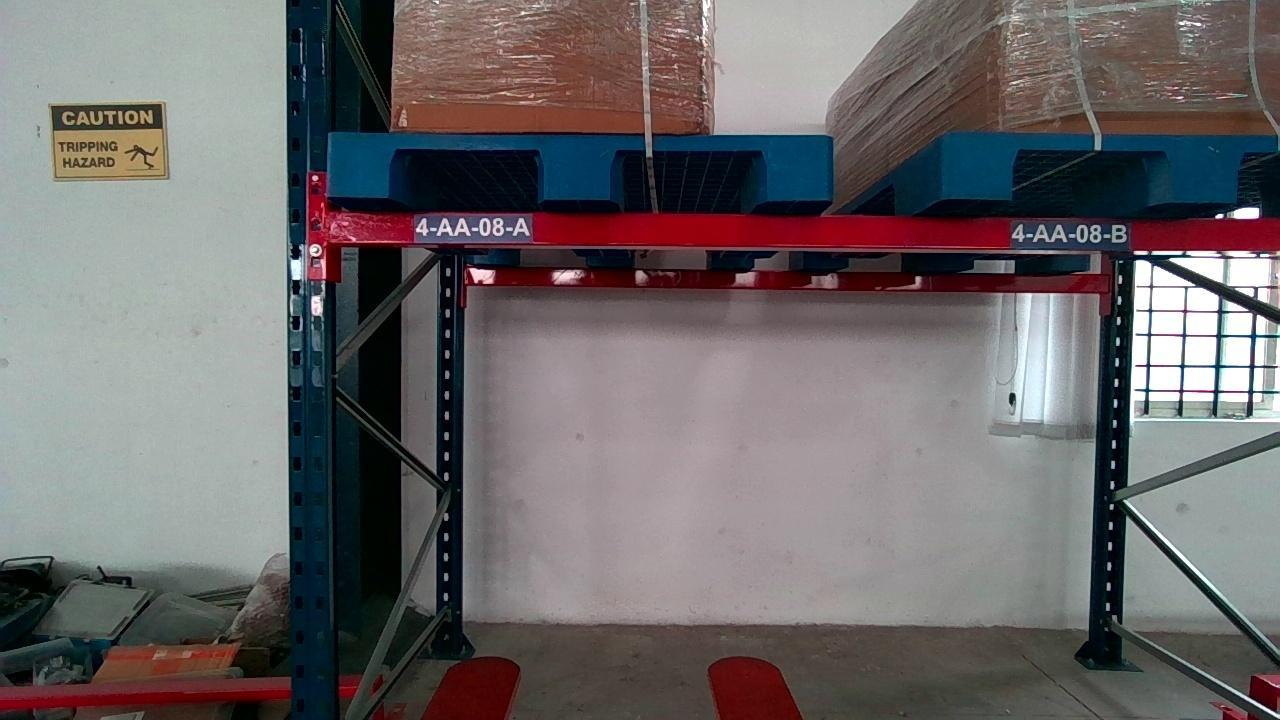h_rack: (313, 204, 1280, 248)
small_pallet: (323, 136, 836, 199), (946, 127, 1280, 209)
